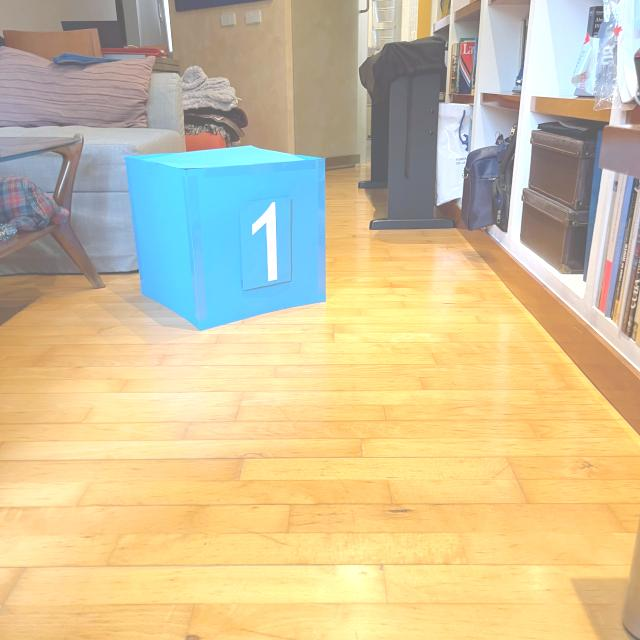box: (120, 141, 331, 332)
